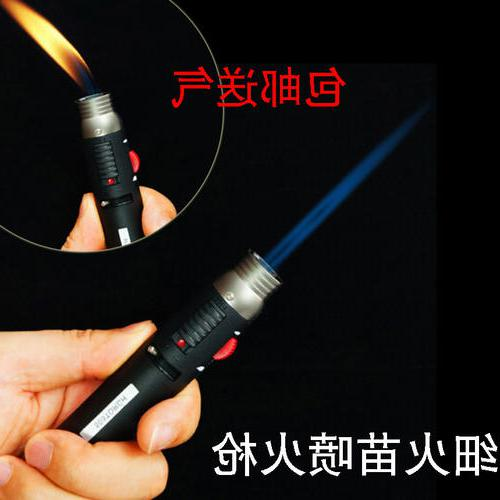fire: (253, 100, 408, 286), (9, 7, 109, 100)
